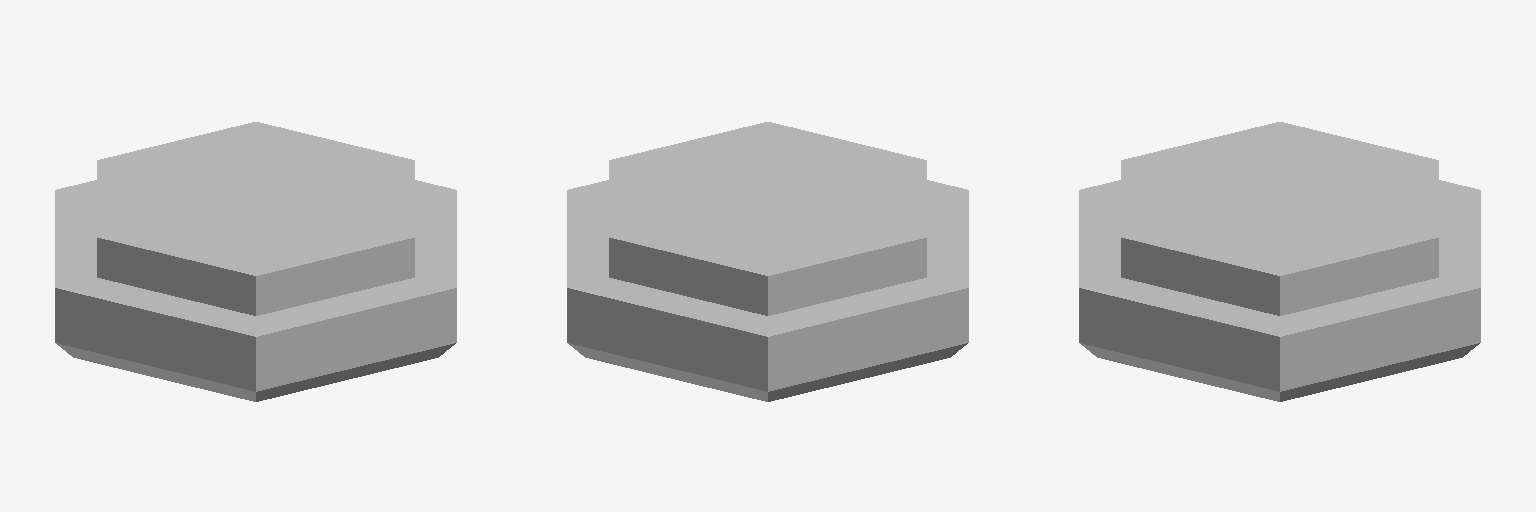
The model's file is plug.obj.
The picture shows the model from 3 angles: view 1: azimuth 30°, elevation 25°; view 2: azimuth 150°, elevation 25°; view 3: azimuth 270°, elevation 25°; orthographic projection.
Parts seen in each view (by area): view 1: output; view 2: output; view 3: output.
Part boxes in pixels (x1,y1,x2,y2): output: (55, 122, 456, 401); output: (567, 122, 968, 401); output: (1079, 122, 1480, 401).
Size of the model in its own units: 0.02 by 0.0054 by 0.0173.